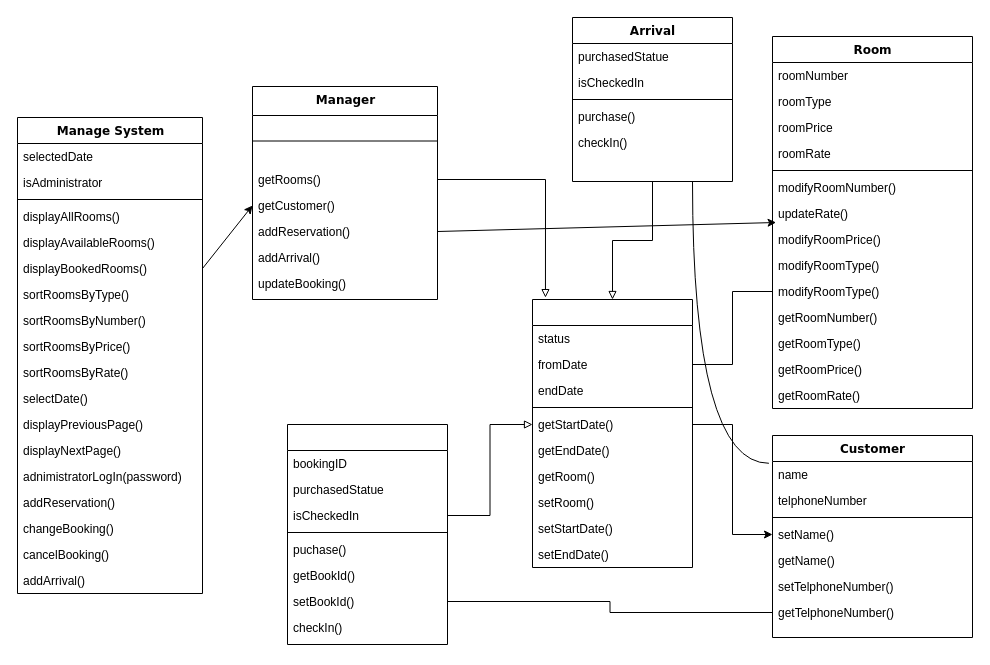
Some shapes in this 990 by 665 pixel diagram are drawn without their labels. The box of each missing label's shape, as (x1, y1, x2, y2) in pixels:
Booking: (532, 298, 692, 568)
Reservation: (286, 424, 448, 644)
